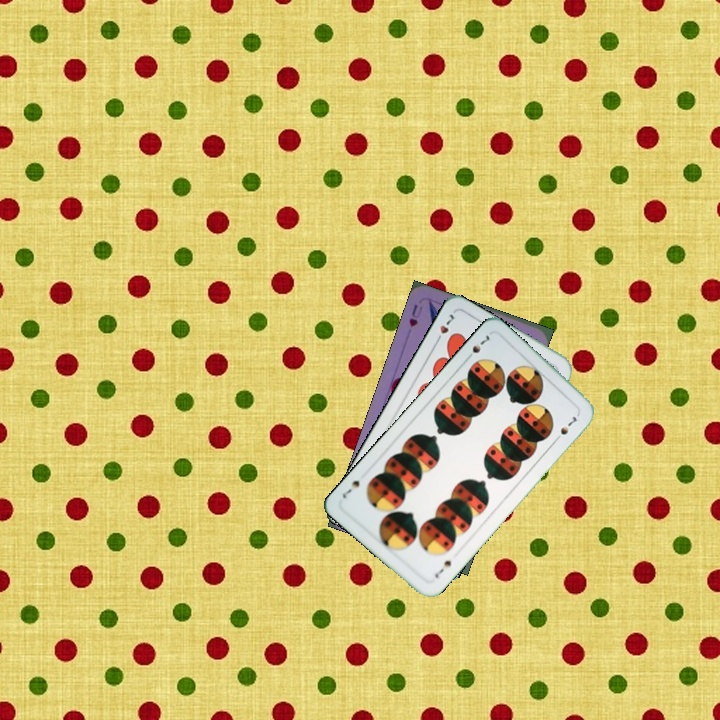H7: (431, 310, 457, 346)
HU: (405, 300, 425, 329)
S7: (462, 330, 495, 363), (431, 556, 454, 581)
